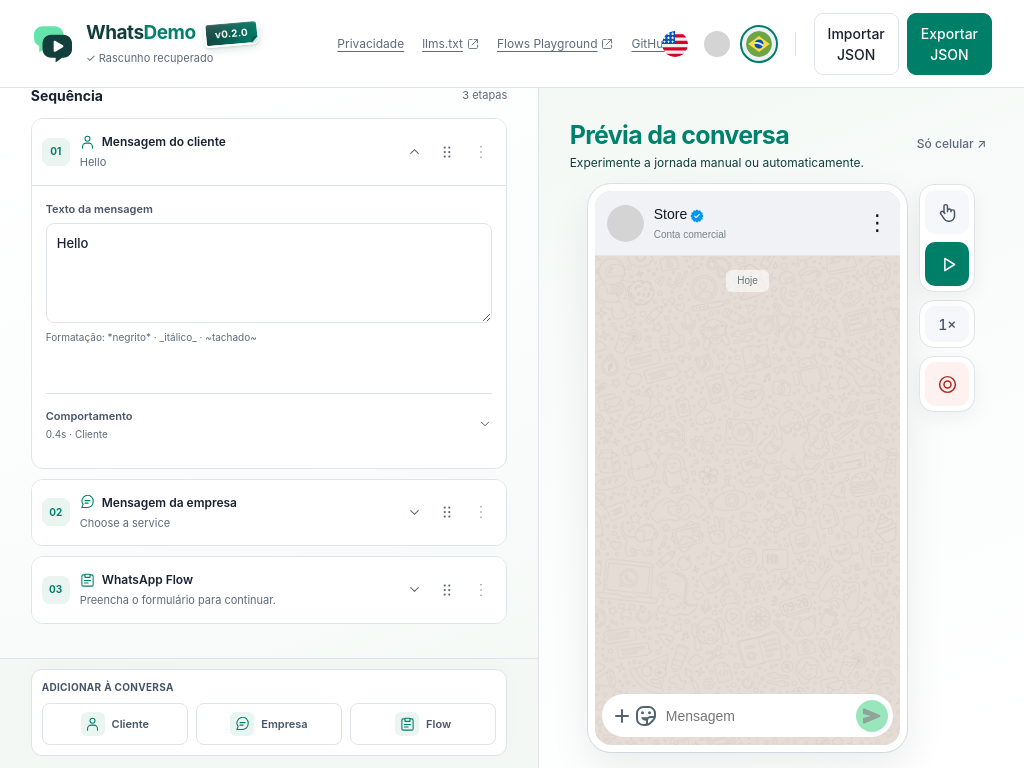
Test case: expands one step at a time, collapses it and preserves the project
This screenshot has width=1024, height=768.
(page scrolled)
Click the button with aria-label "Editar etapa 2" at x=169, y=502, box x1=76 y1=492 x2=427 y2=533
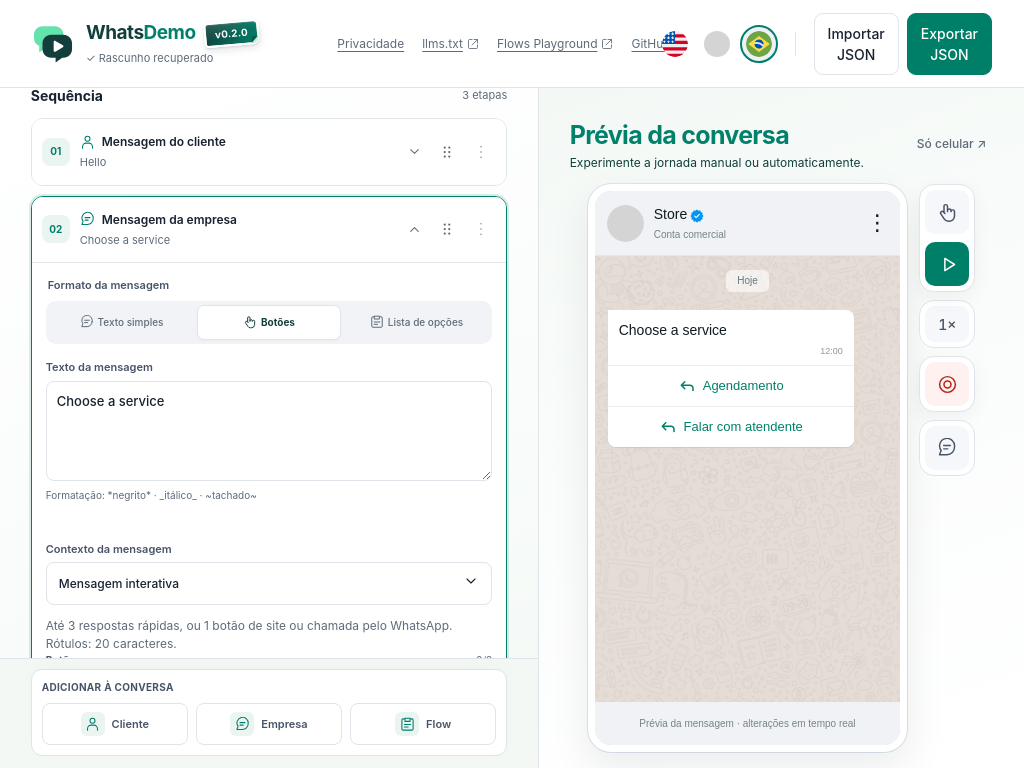
Now the button with aria-label "Editar etapa 1" is collapsed, box x1=76 y1=131 x2=427 y2=172
Now the button with aria-label "Recolher etapa 2" is expanded
Click the button with aria-label "Recolher etapa 2" at x=169, y=219, box x1=76 y1=208 x2=427 y2=250
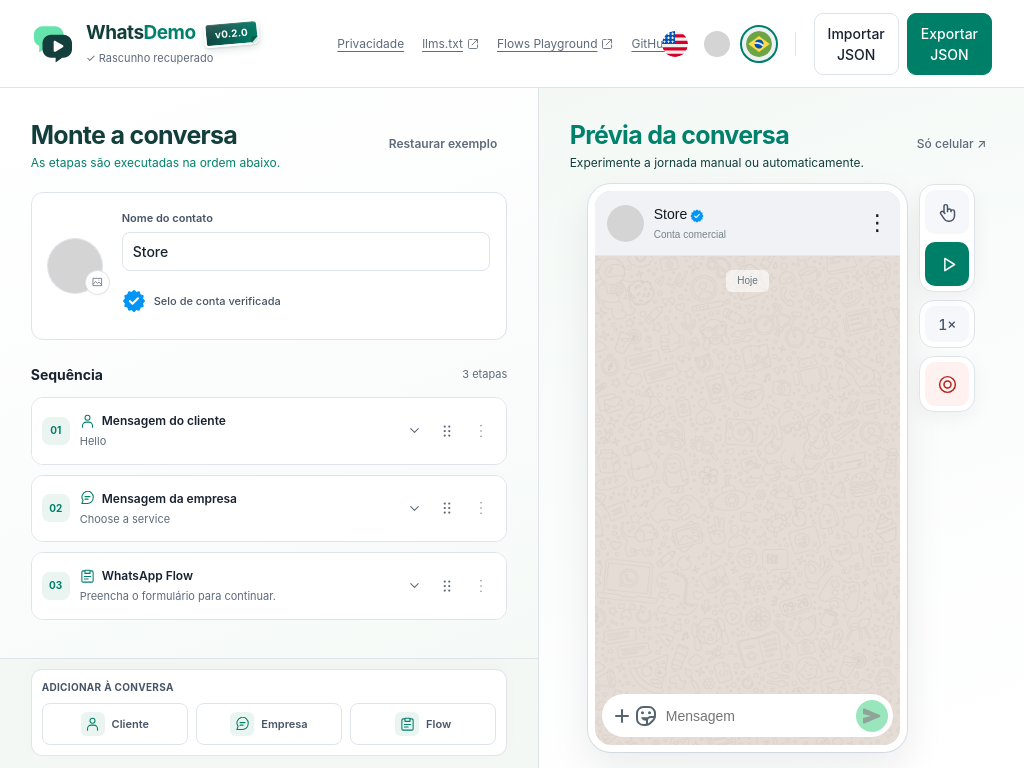
Now the number of buttons named "Editar etapa" is 3, box x1=76 y1=410 x2=427 y2=452; x1=76 y1=488 x2=427 y2=529; x1=76 y1=565 x2=427 y2=606
